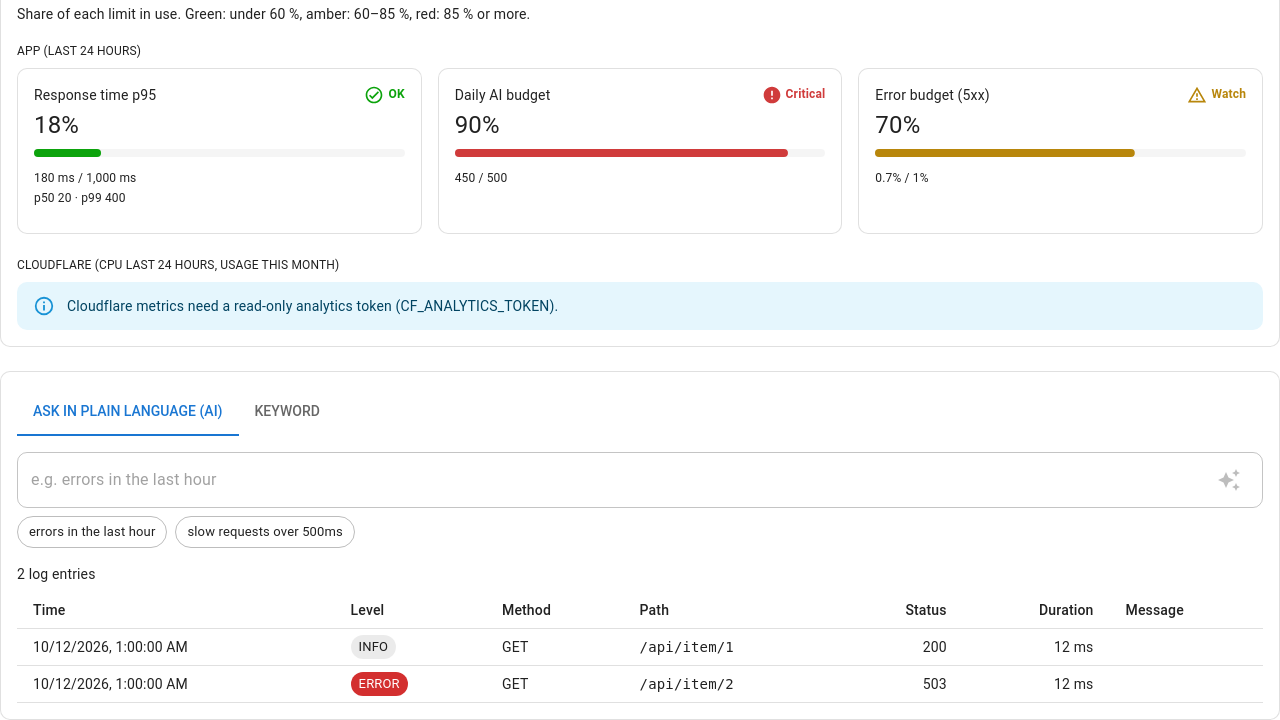
Test case: LogsPage › maps translate error 422 to a message
(page scrolled)
In the field named "Search logs in plain language": [609, 480] box [17,452,1201,508], type "x"
Then press Enter
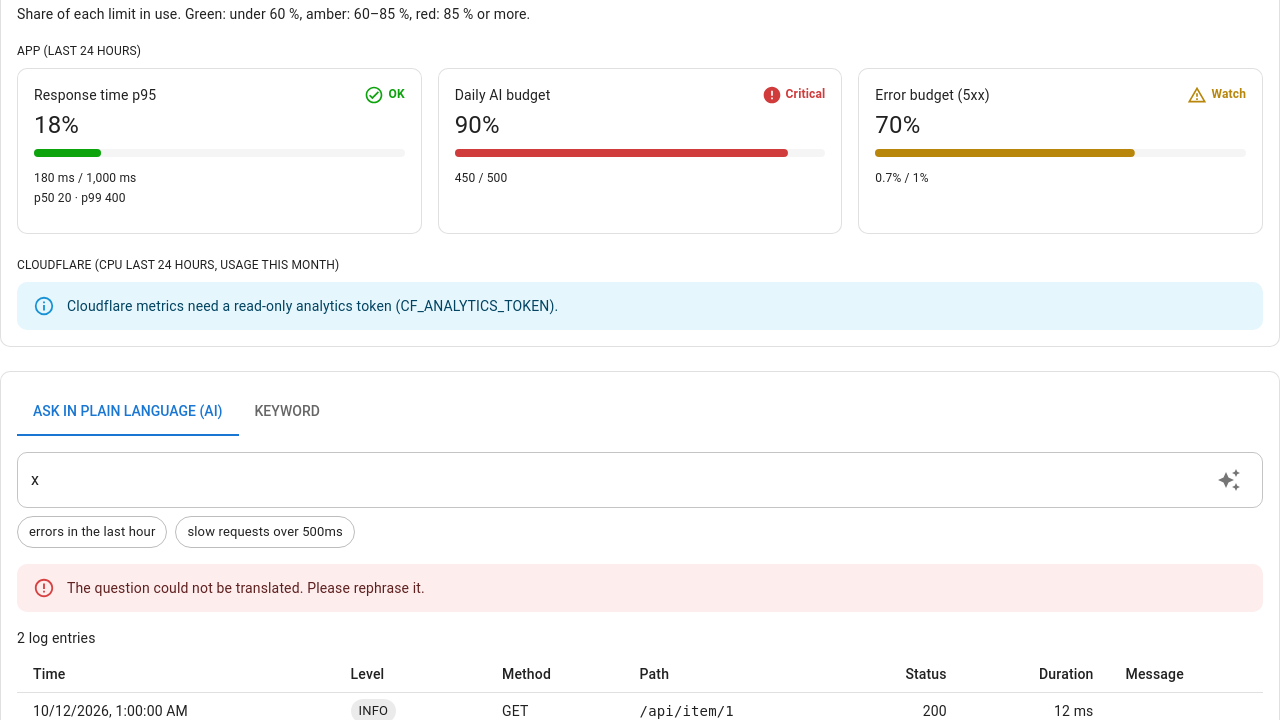
Expected: the text "The question could not be translated. Please rephrase it." is shown, [67,580,425,596]
